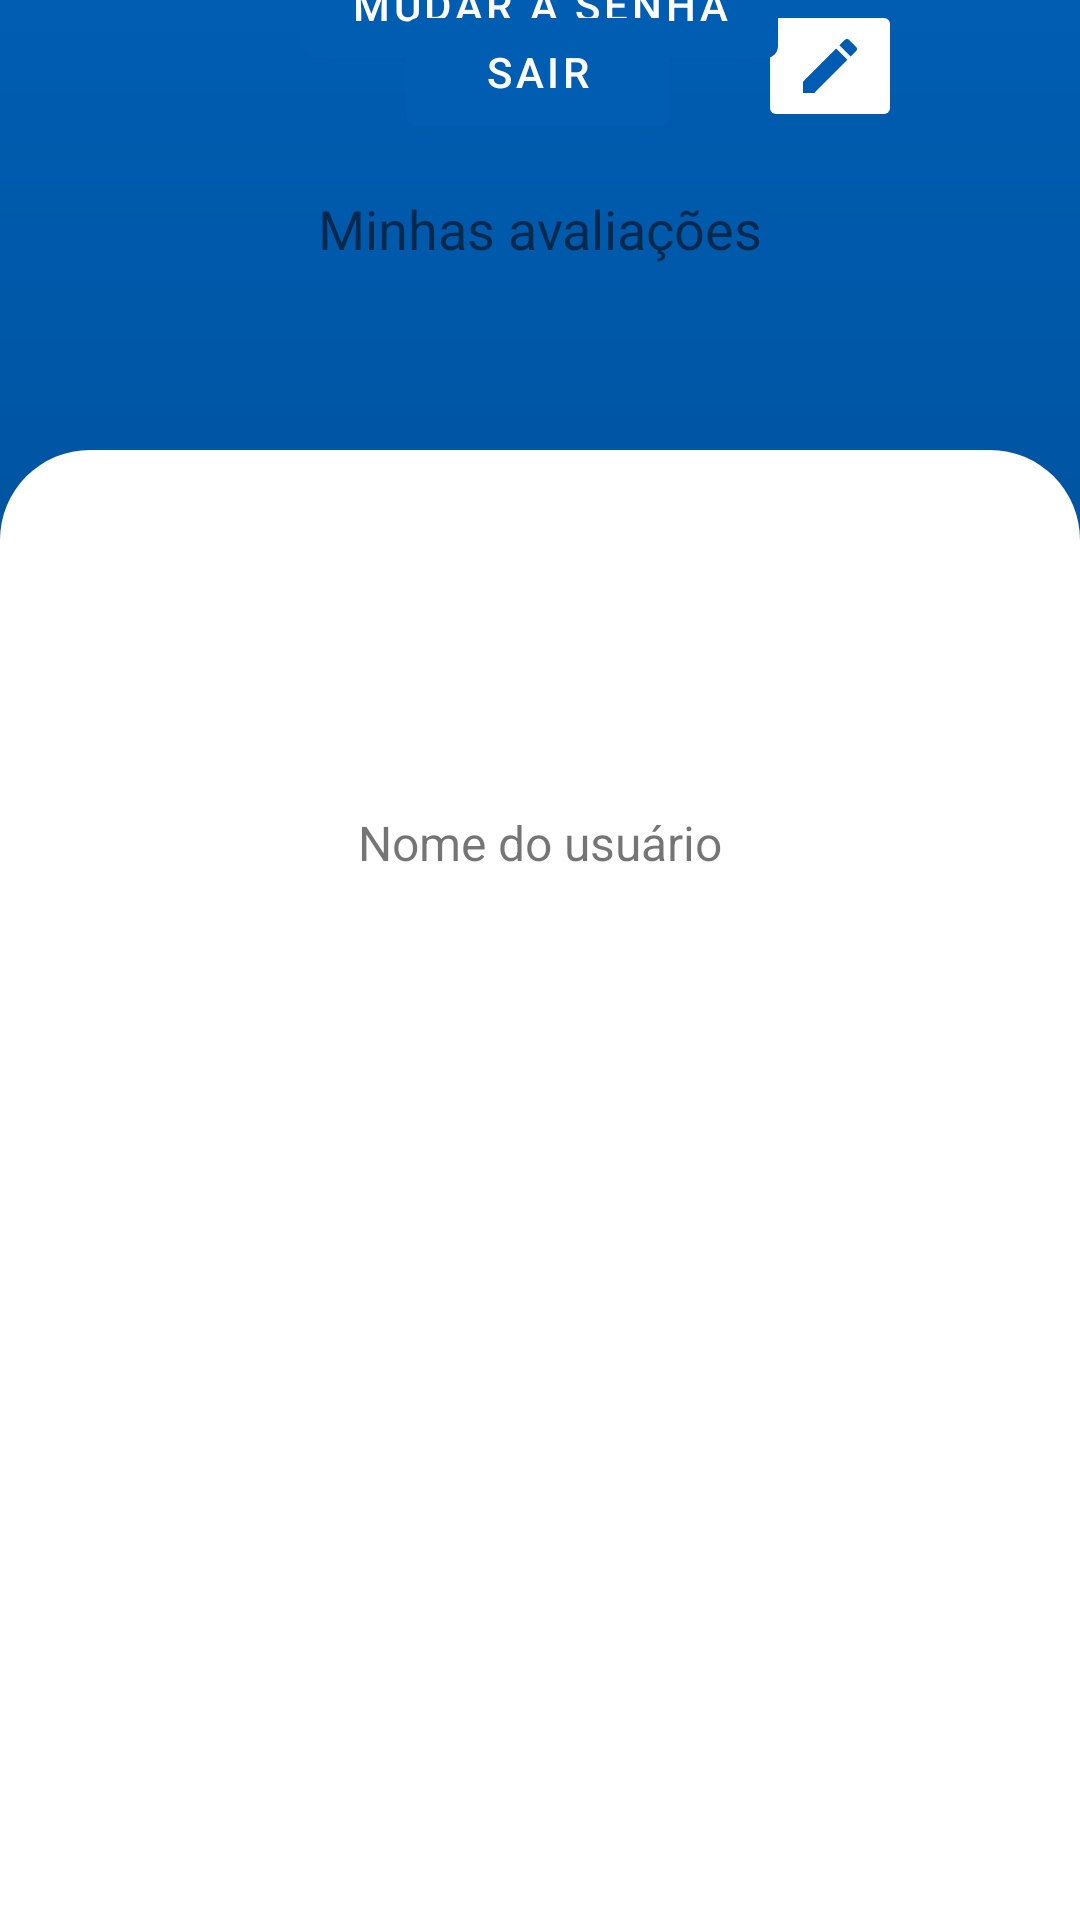

Icon click points for this 1080 × 1920 phone screenshot, format [x,y]:
edit: [830,66]
